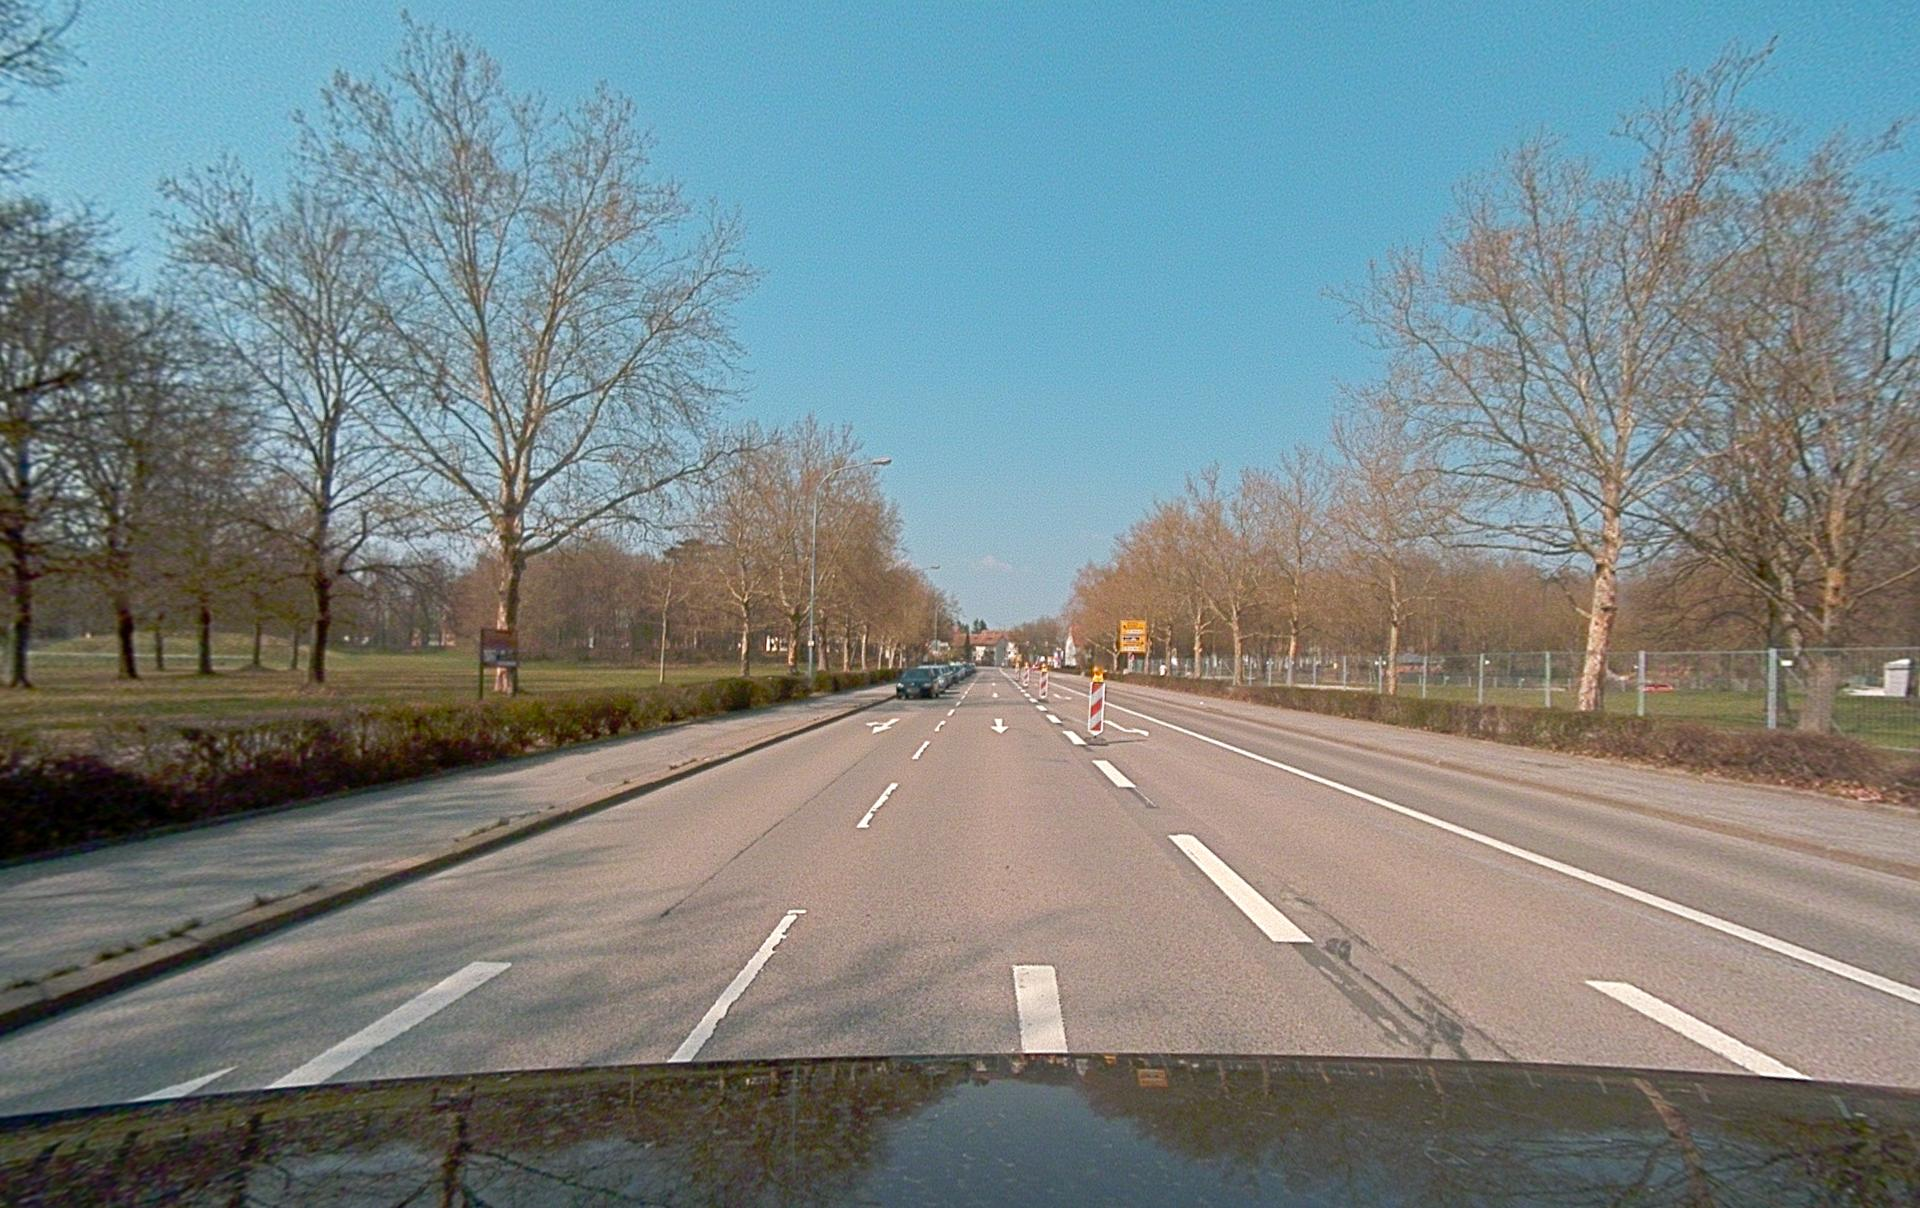car: (896, 665, 946, 699), (947, 661, 977, 683)
traffic sign: (1119, 618, 1148, 655)
